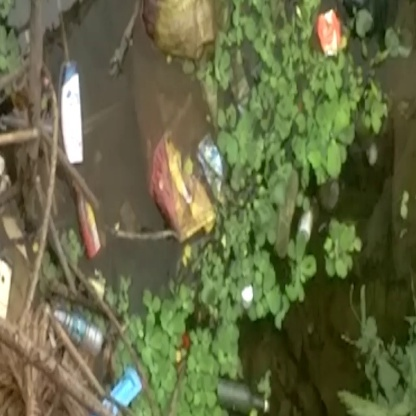bottle: (49, 295, 119, 362), (56, 59, 92, 169), (204, 365, 280, 415)
